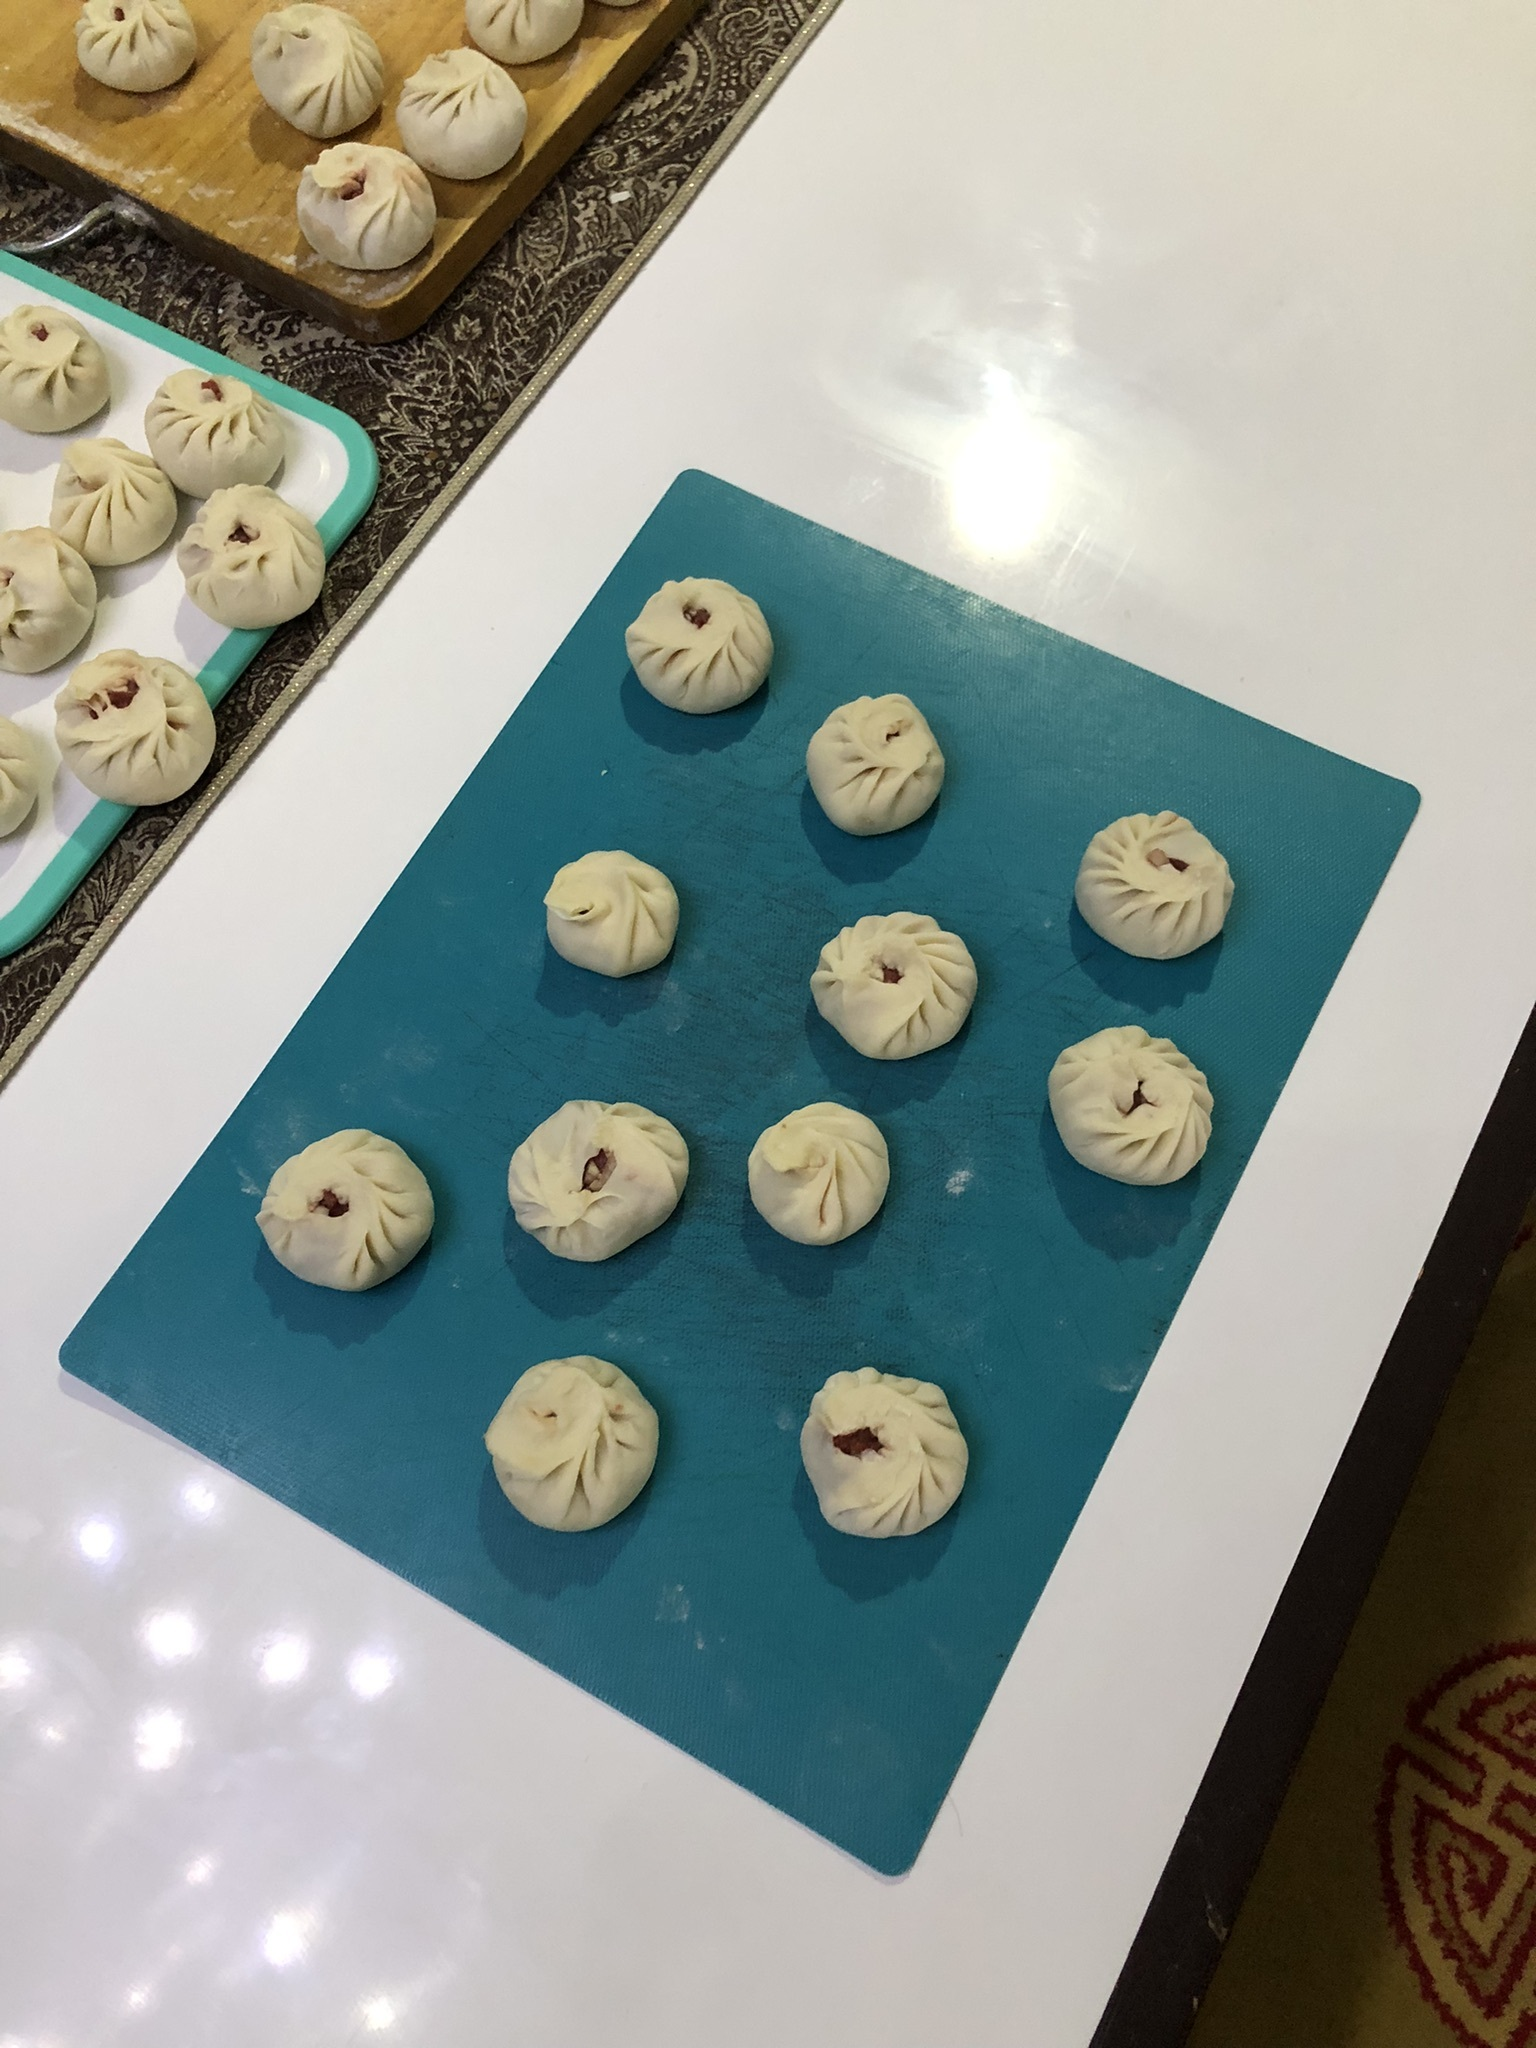buuz: (784, 1361, 979, 1551), (250, 1119, 445, 1303), (479, 1350, 666, 1538), (502, 1085, 694, 1269), (1037, 1018, 1226, 1193), (800, 906, 987, 1068), (1066, 801, 1242, 968), (733, 1097, 899, 1258), (616, 568, 783, 718), (800, 685, 952, 842), (541, 843, 684, 984)
